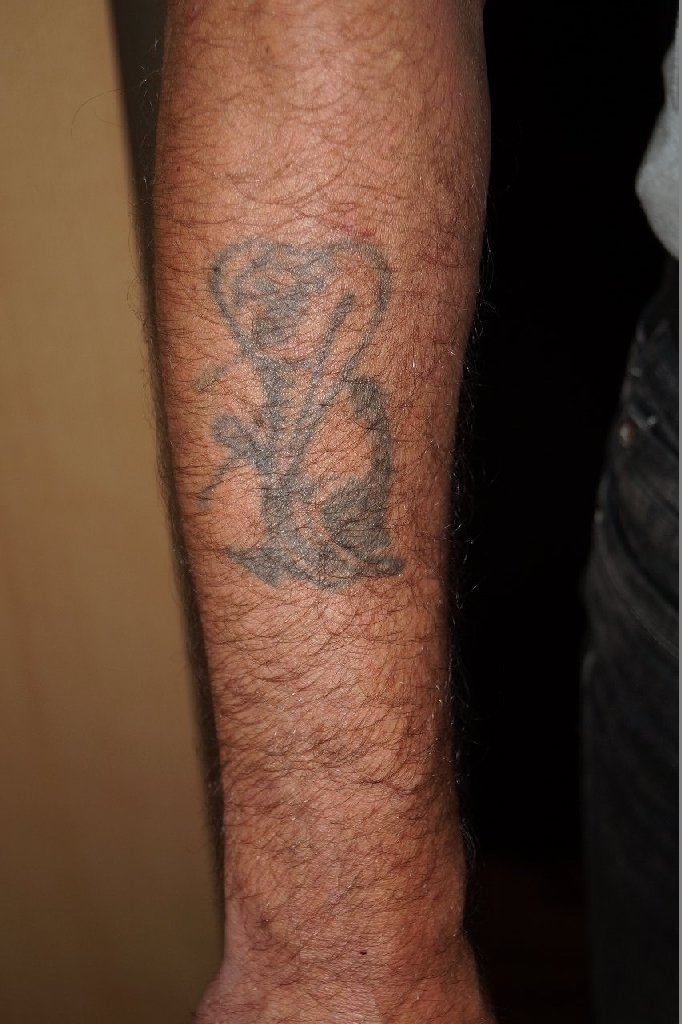tatu7_zmeya: (199, 186, 420, 625)
